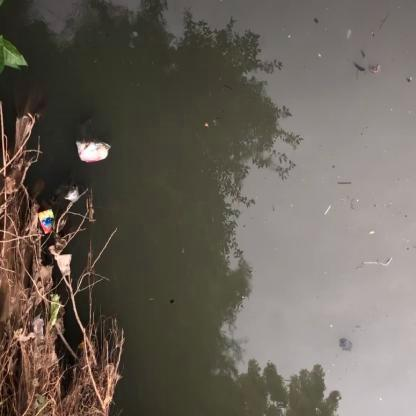Trash: (75, 139, 109, 164), (37, 205, 55, 236), (65, 190, 80, 206)
